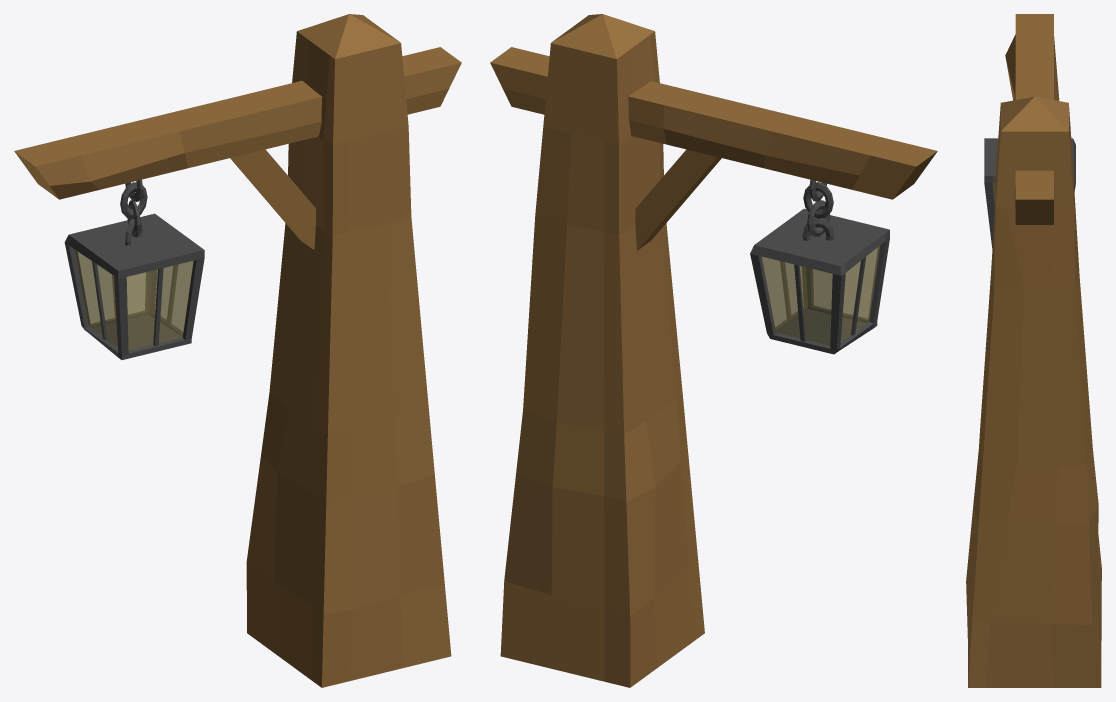
Rendered from LampPost.fbx.
The picture shows the model from 3 angles, left to right: view 1: azimuth 30°, elevation 25°; view 2: azimuth 150°, elevation 25°; view 3: azimuth 270°, elevation 25°; orthographic projection. The views are drawn at different scales.
Visible parts, largest first — view 1: pCube1, pCube3, pCube5, pCube4, pCube2; view 2: pCube1, pCube3, pCube5, pCube4, pCube2; view 3: pCube1, pCube3, pCube2, pCube5.
Part boxes in pixels (x1,y1,x2,y2): pCube1: (246,31,451,687); pCube3: (14,47,461,199); pCube5: (64,213,204,359); pCube4: (230,149,315,249); pCube2: (297,14,400,58); pCube1: (500,31,704,687); pCube3: (490,47,937,199); pCube5: (750,208,889,354); pCube4: (635,149,721,250); pCube2: (551,14,654,58); pCube1: (966,107,1101,687); pCube3: (1005,14,1059,224); pCube2: (1000,96,1068,131); pCube5: (984,138,1075,248).
Bounding box in the file's own units: 2.77 × 3.92 × 0.8564.
